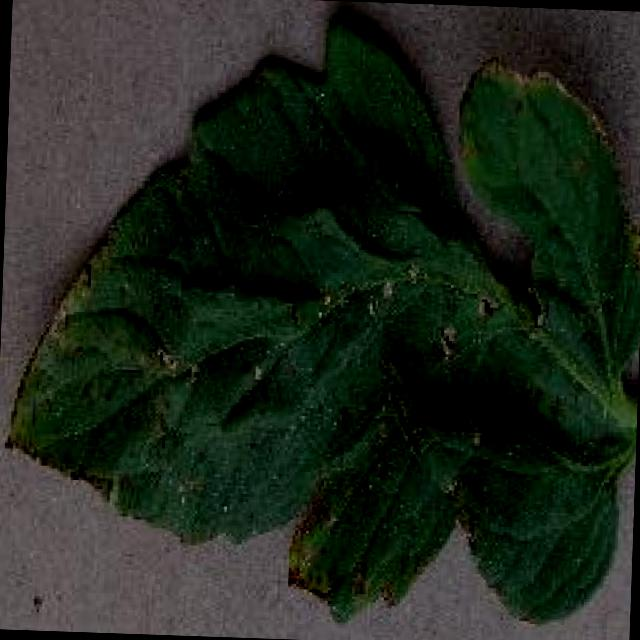bacterial spot: (4, 20, 640, 623)
